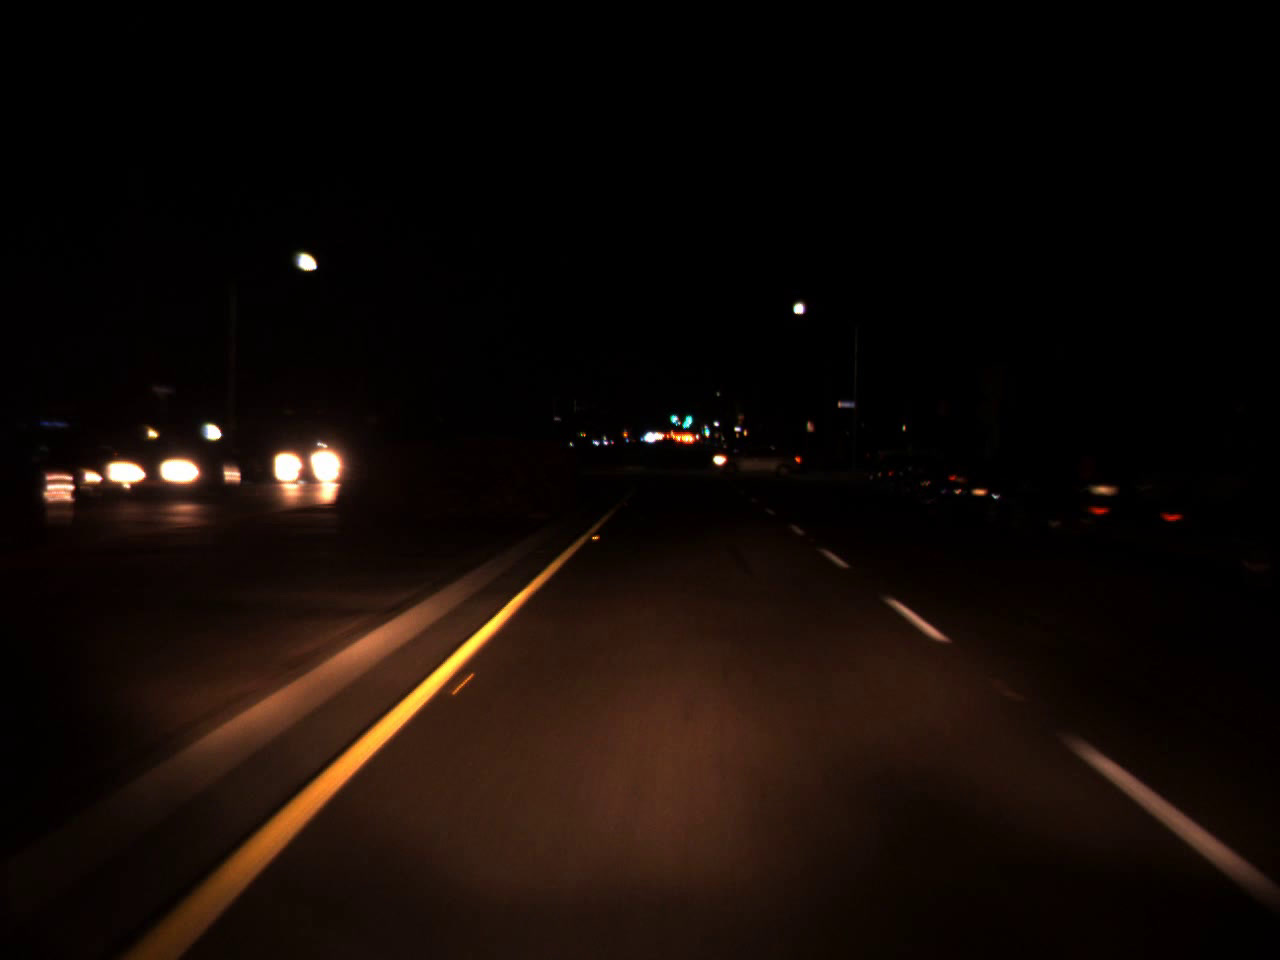go: (678, 398, 694, 434), (670, 407, 677, 425), (703, 423, 710, 435)
